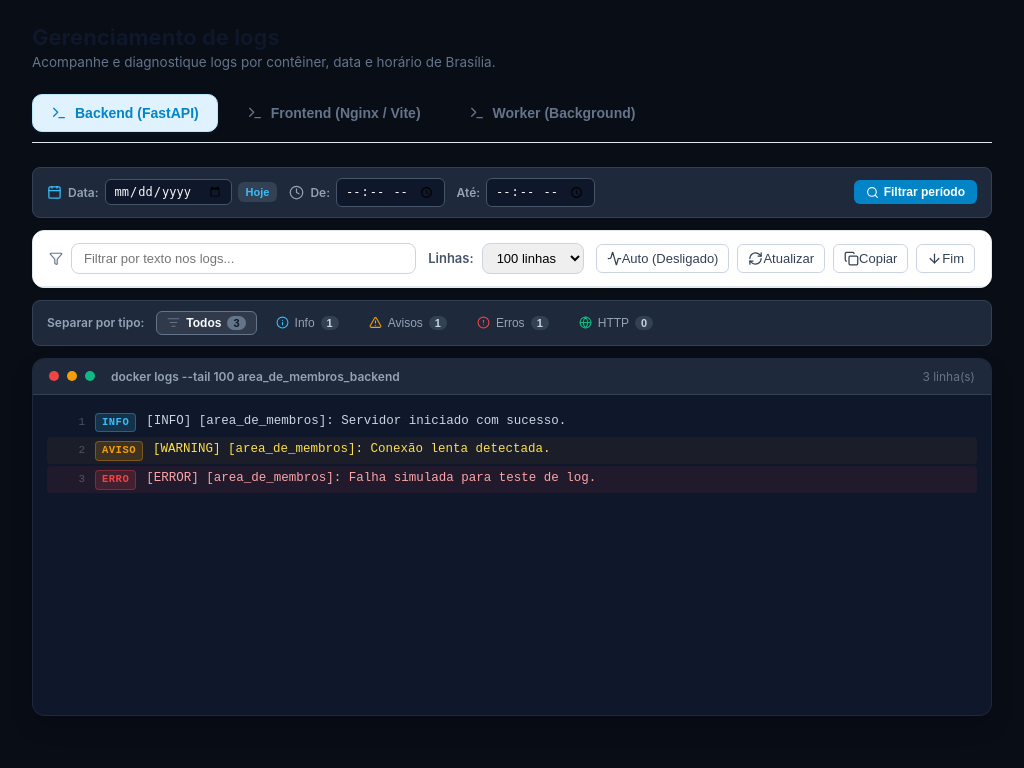
Test: LogManagement Component › filters logs by text search input
The width and height of the screenshot is (1024, 768).
Expected: the text "[INFO] [area_de_membros]: Servidor iniciado com sucesso." is shown, x1=146 y1=414 x2=566 y2=428
Type "Falha simulada" into the field with test id "log-search-input". click: [244, 258]
box: x1=71 y1=243 x2=416 y2=274
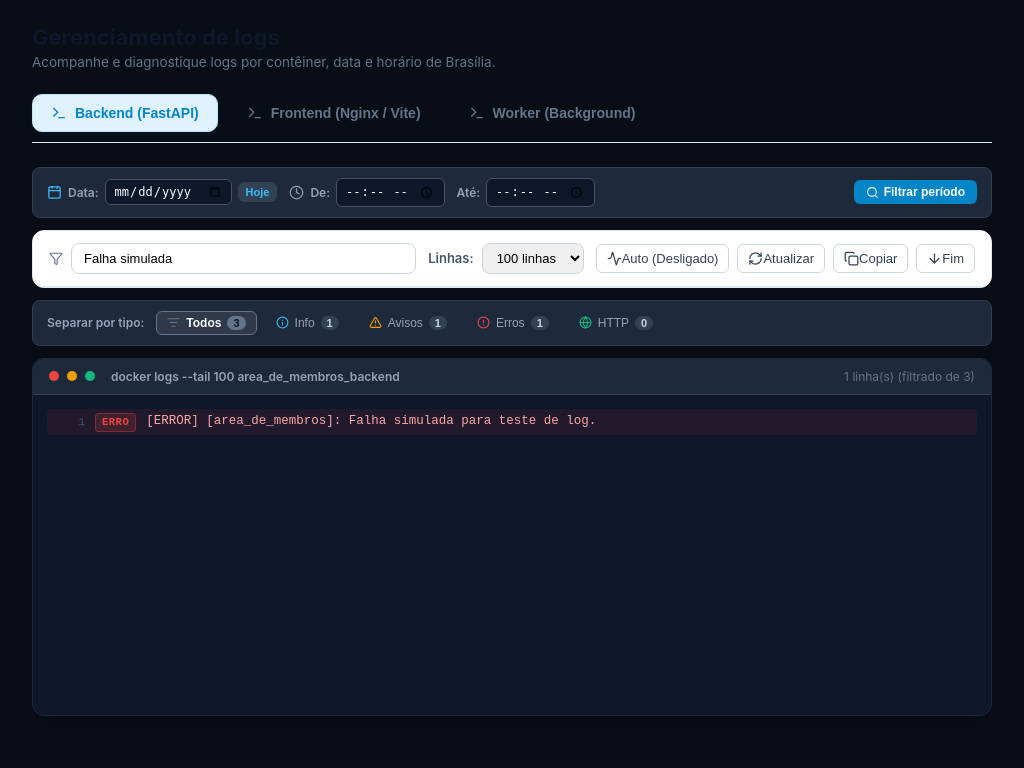
Now the text "[ERROR] [area_de_membros]: Falha simulada para teste de log." is shown, box x1=146 y1=414 x2=596 y2=428
Now the text "Servidor iniciado com sucesso" is gone
